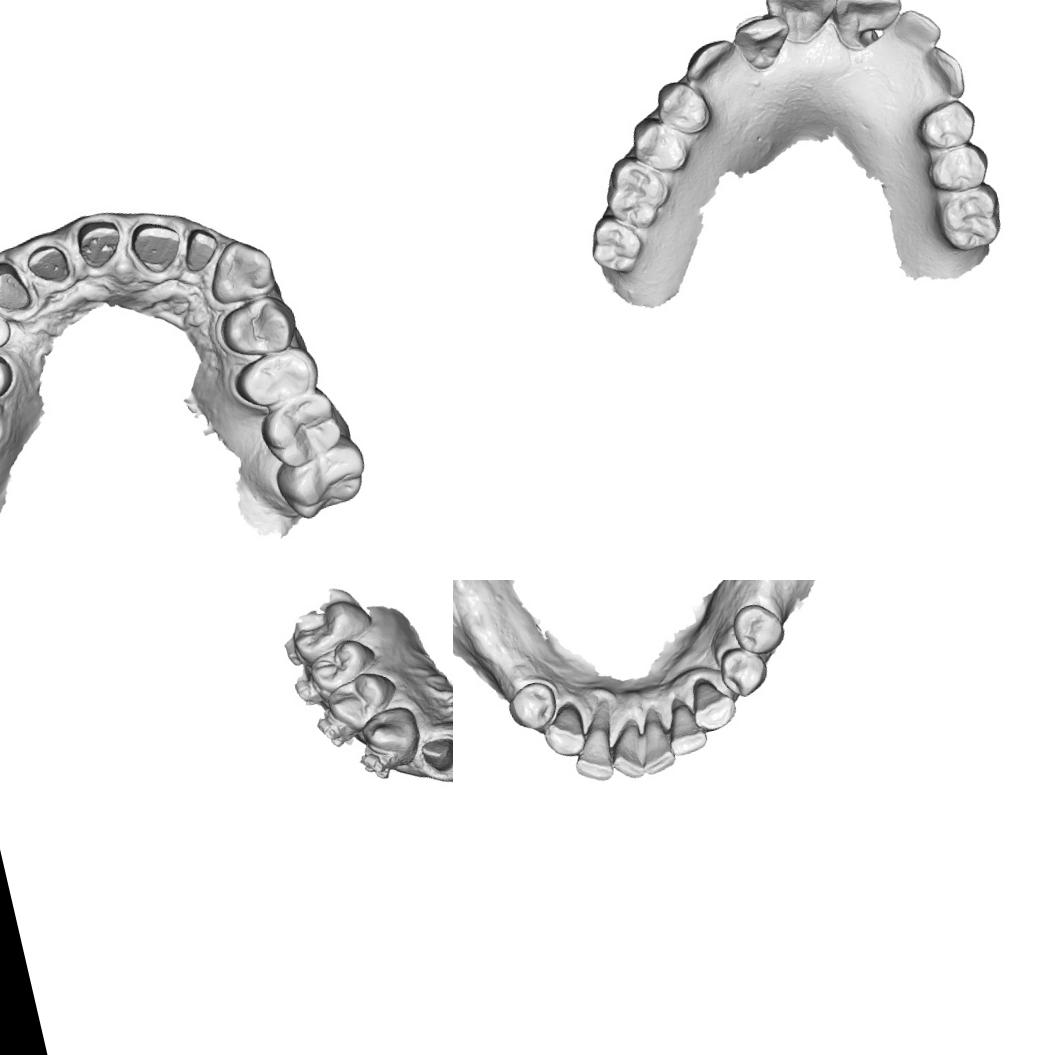canine: (198, 231, 283, 311), (356, 702, 423, 772), (678, 35, 744, 89), (684, 672, 740, 734), (536, 701, 591, 762), (919, 41, 969, 105)
crown: (124, 214, 188, 280), (70, 214, 130, 274), (20, 236, 78, 294), (176, 220, 226, 276), (0, 254, 36, 320), (414, 731, 453, 775)
implant: (0, 308, 17, 355)
incisor: (563, 706, 624, 788), (825, 0, 910, 56), (728, 10, 798, 77), (761, 0, 844, 50), (628, 704, 678, 778), (660, 692, 710, 758), (603, 718, 651, 784), (889, 3, 945, 58)
molar: (268, 436, 376, 526), (253, 384, 351, 475), (597, 148, 679, 236), (284, 595, 376, 664), (931, 180, 1009, 256), (582, 208, 650, 282)
premolar: (227, 340, 322, 415), (214, 290, 303, 364), (319, 665, 404, 730), (304, 632, 382, 694), (626, 108, 691, 178), (915, 95, 988, 155), (922, 138, 994, 198), (651, 74, 714, 141), (727, 597, 790, 661), (714, 640, 774, 702), (502, 676, 562, 736), (0, 333, 18, 412)
